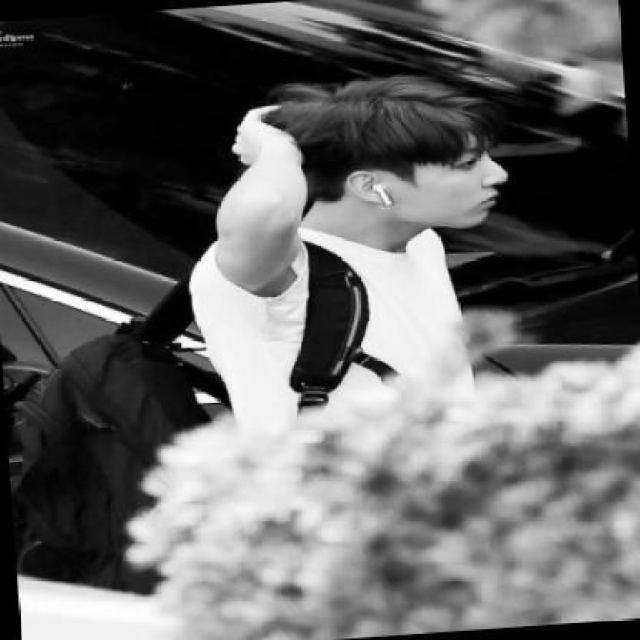earphone: (371, 164, 400, 226)
